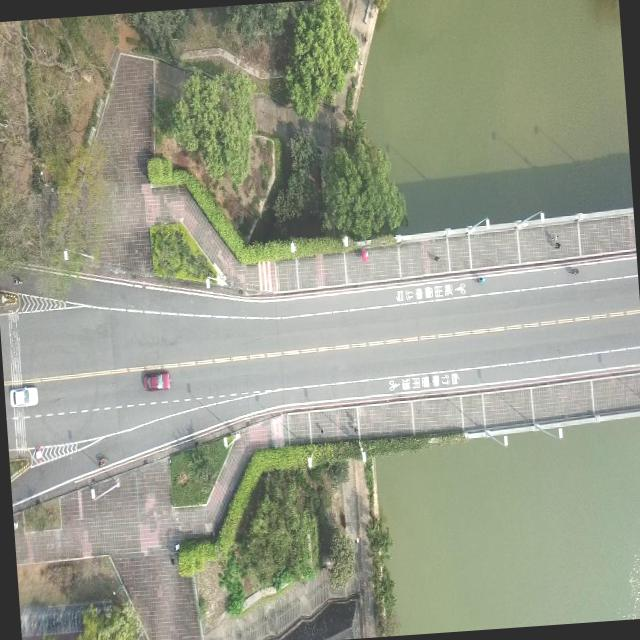car: (8, 383, 38, 408), (140, 368, 171, 392)
